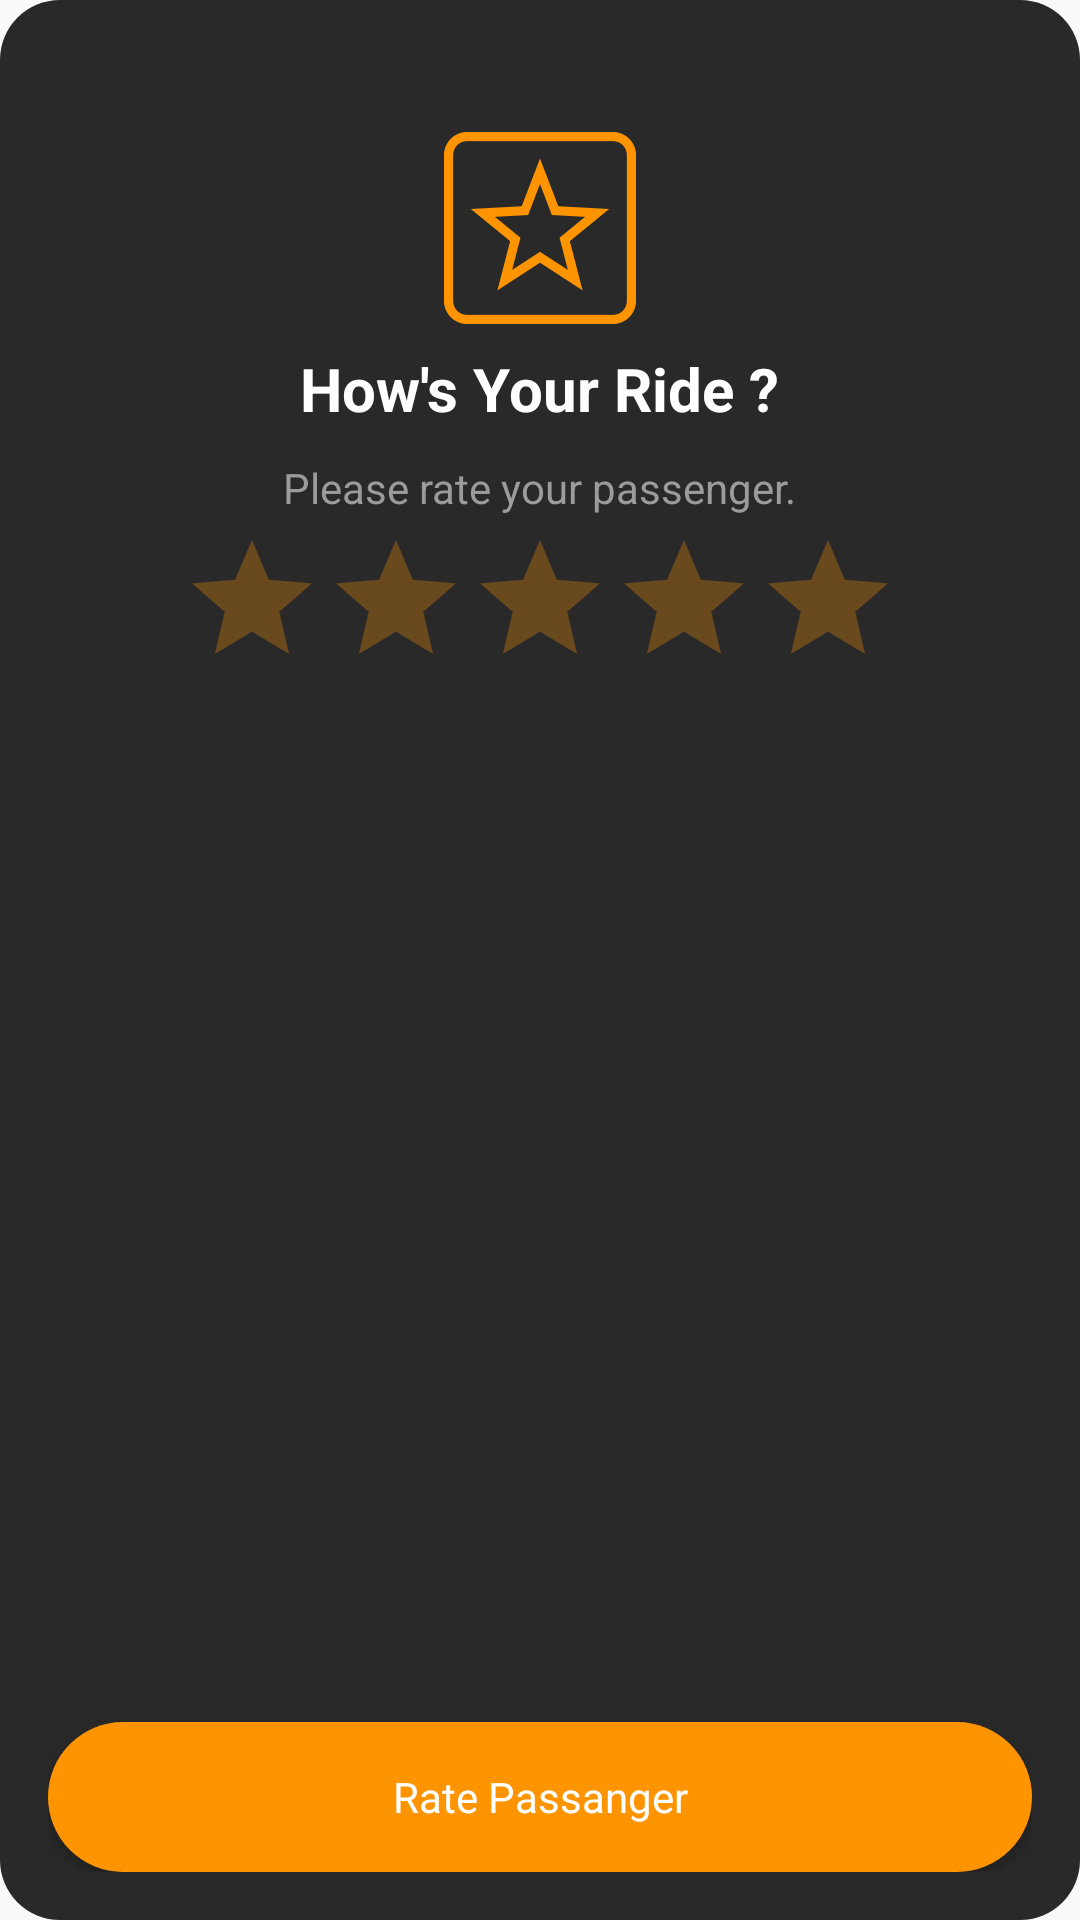

Named icons in this screenshot (1080*1920) and their centers, (x,y):
rating: (540,228)
